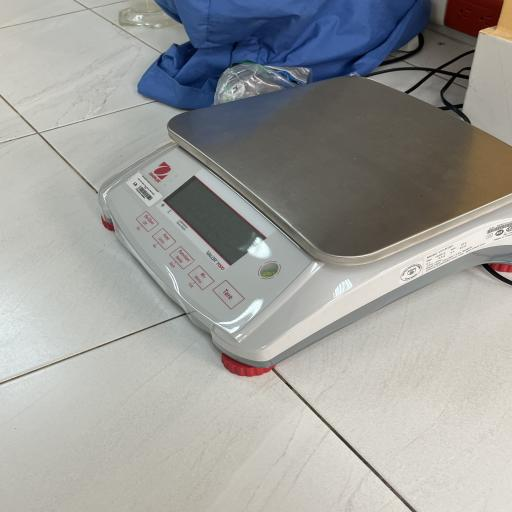Balanza_Granataria_Ohaus: (84, 67, 512, 382)
